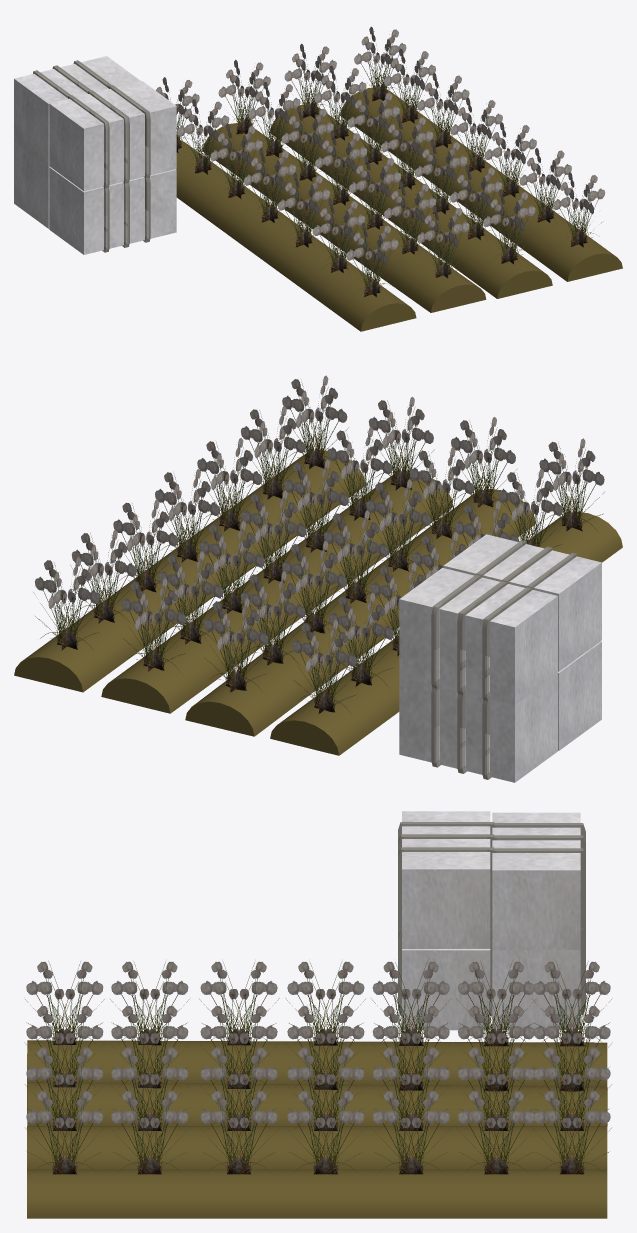
The model's file is Cotton Farm Final.fbx.
3 views of the same model, one above another, from view 1: azimuth 30°, elevation 25°; view 2: azimuth 150°, elevation 25°; view 3: azimuth 270°, elevation 25° (orthographic). The views are drawn at different scales.
Parts seen in each view (by area): view 1: Farm_Lane_4, pCube7, Farm_Lane_1, Farm_Lane_3, Farm_Lane_2, pCube4, pCube3, pCube2, pCube8, pCube6, pCube5, pPlane16 (+53 smaller); view 2: pCube3, Farm_Lane_1, Farm_Lane_2, Farm_Lane_3, pCube2, Farm_Lane_4, pCube7, pCube4, pCube5, pCube1, pCube8, pPlane27 (+57 smaller); view 3: Farm_Lane_1, Farm_Lane_2, Farm_Lane_4, Farm_Lane_3, pCube3, pCube7, pCube4, pCube2, pCube5, pCube8, pPlane86, pPlane109 (+55 smaller).
Part boxes in pixels (bbox=[...]): Farm_Lane_4: bbox=[176, 140, 416, 331]; pCube7: bbox=[49, 81, 176, 191]; Farm_Lane_1: bbox=[340, 87, 622, 281]; Farm_Lane_3: bbox=[202, 123, 486, 312]; Farm_Lane_2: bbox=[270, 104, 552, 298]; pCube4: bbox=[49, 167, 176, 254]; pCube3: bbox=[14, 56, 140, 166]; pCube2: bbox=[14, 141, 49, 228]; pCube8: bbox=[68, 85, 150, 188]; pCube6: bbox=[102, 157, 150, 252]; pCube5: bbox=[33, 60, 114, 116]; pPlane16: bbox=[244, 157, 284, 222]; pCube3: bbox=[399, 568, 557, 704]; Farm_Lane_1: bbox=[14, 450, 365, 692]; Farm_Lane_2: bbox=[101, 472, 453, 713]; Farm_Lane_3: bbox=[185, 489, 535, 736]; pCube2: bbox=[399, 648, 557, 782]; Farm_Lane_4: bbox=[270, 512, 622, 755]; pCube7: bbox=[443, 534, 601, 671]; pCube4: bbox=[558, 641, 601, 750]; pCube5: bbox=[431, 573, 533, 701]; pCube1: bbox=[431, 660, 491, 779]; pCube8: bbox=[475, 540, 577, 612]; pPlane27: bbox=[291, 623, 342, 711]; Farm_Lane_1: bbox=[27, 1169, 607, 1218]; Farm_Lane_2: bbox=[27, 1126, 607, 1169]; Farm_Lane_4: bbox=[27, 1040, 607, 1086]; Farm_Lane_3: bbox=[27, 1082, 607, 1125]; pCube3: bbox=[492, 812, 580, 950]; pCube7: bbox=[402, 811, 490, 948]; pCube4: bbox=[402, 949, 490, 1030]; pCube2: bbox=[492, 950, 580, 1029]; pCube5: bbox=[487, 823, 585, 935]; pCube8: bbox=[398, 822, 495, 933]; pPlane86: bbox=[372, 1090, 432, 1174]; pPlane109: bbox=[217, 1090, 278, 1174].
Size of the model in its own units: 21.17 by 6.7 by 22.01.
4 materials, 2 textured.
